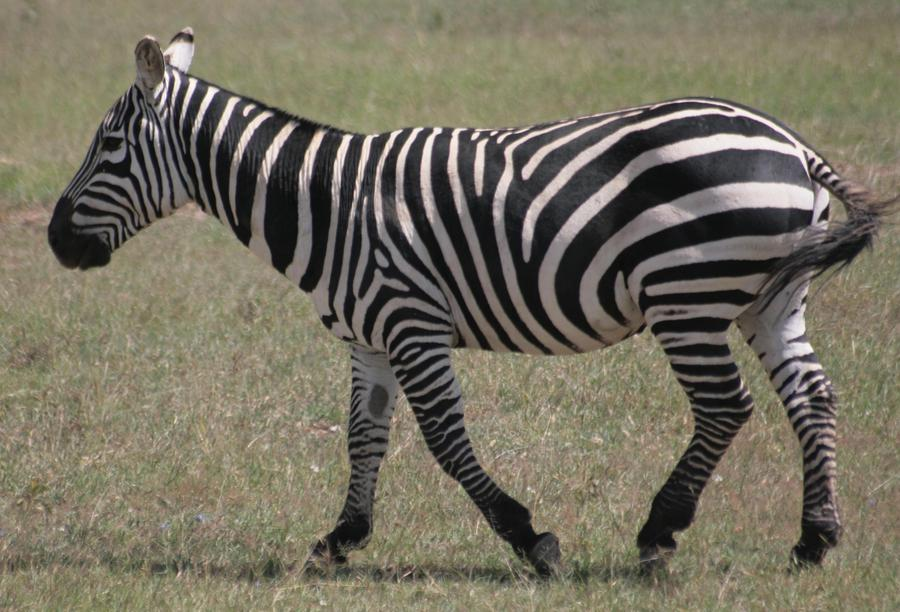zebra_plains: (318, 122, 749, 358)
